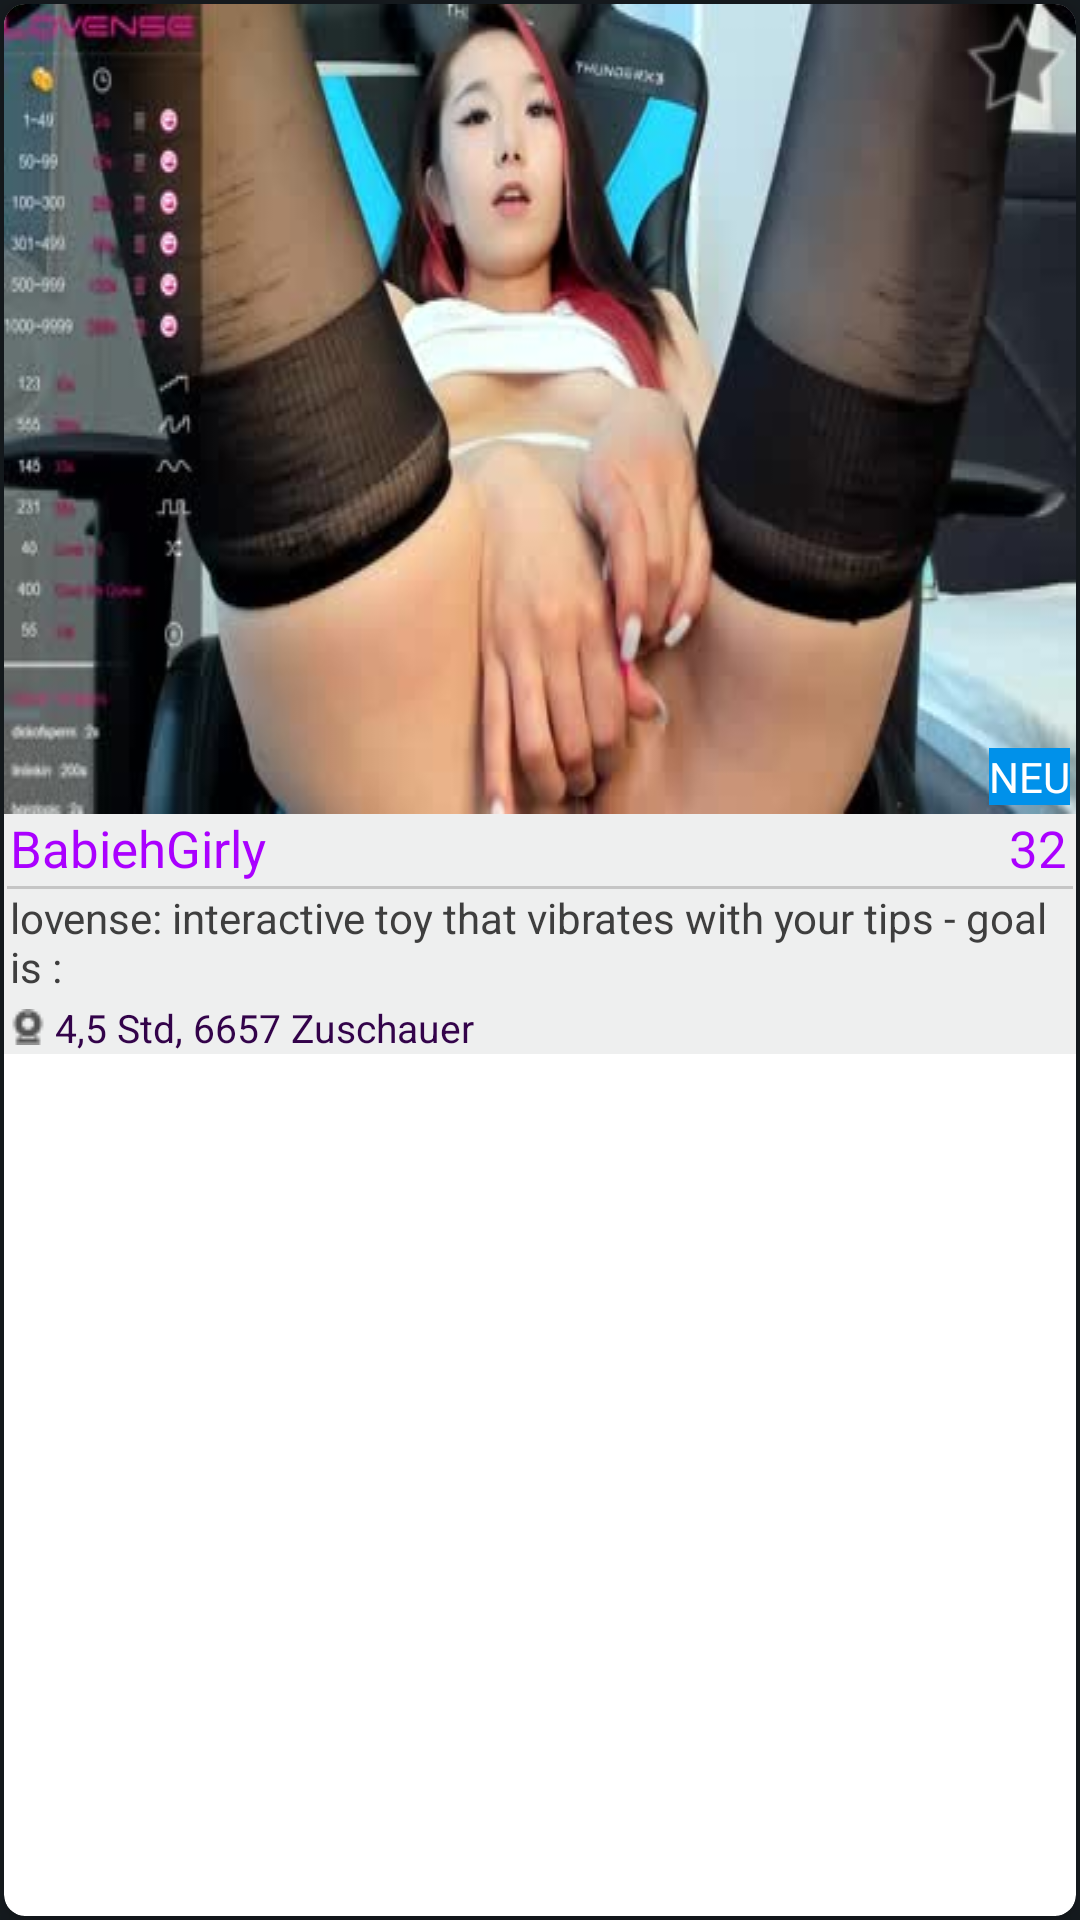

Screen size 1080×1920. Icon name, then its center in pixels as (x,y):
cam: (27,1027)
favorite: (1016,64)
